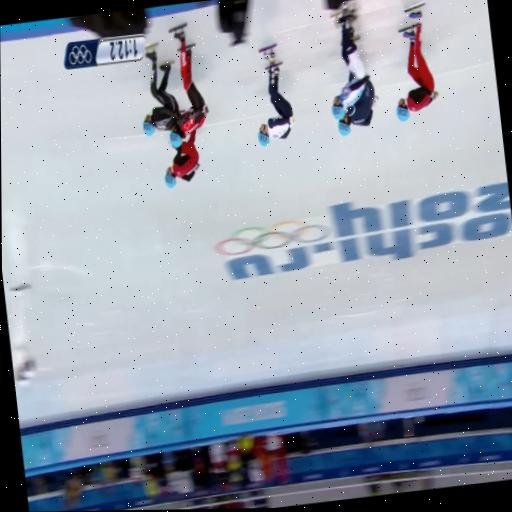Skater: (396, 2, 438, 121), (169, 23, 207, 146), (331, 9, 368, 119), (258, 44, 294, 146), (143, 43, 178, 135), (337, 79, 377, 135), (164, 130, 198, 188)
